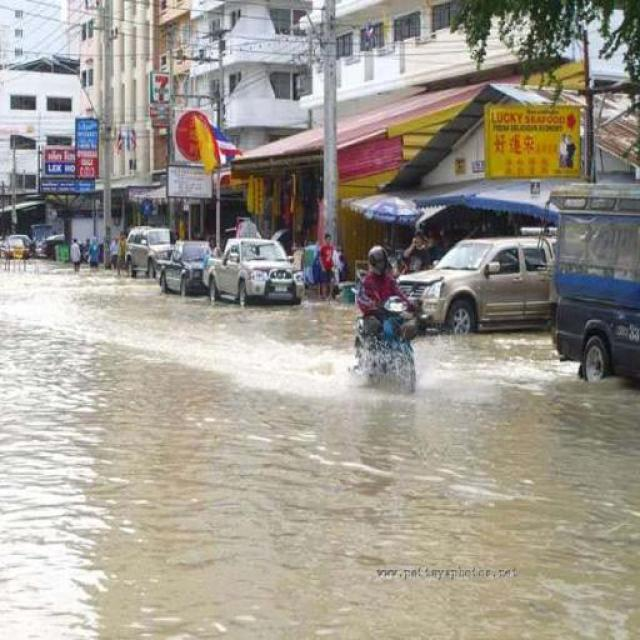puddle: (138, 393, 640, 640), (2, 277, 234, 640), (202, 312, 353, 407)
